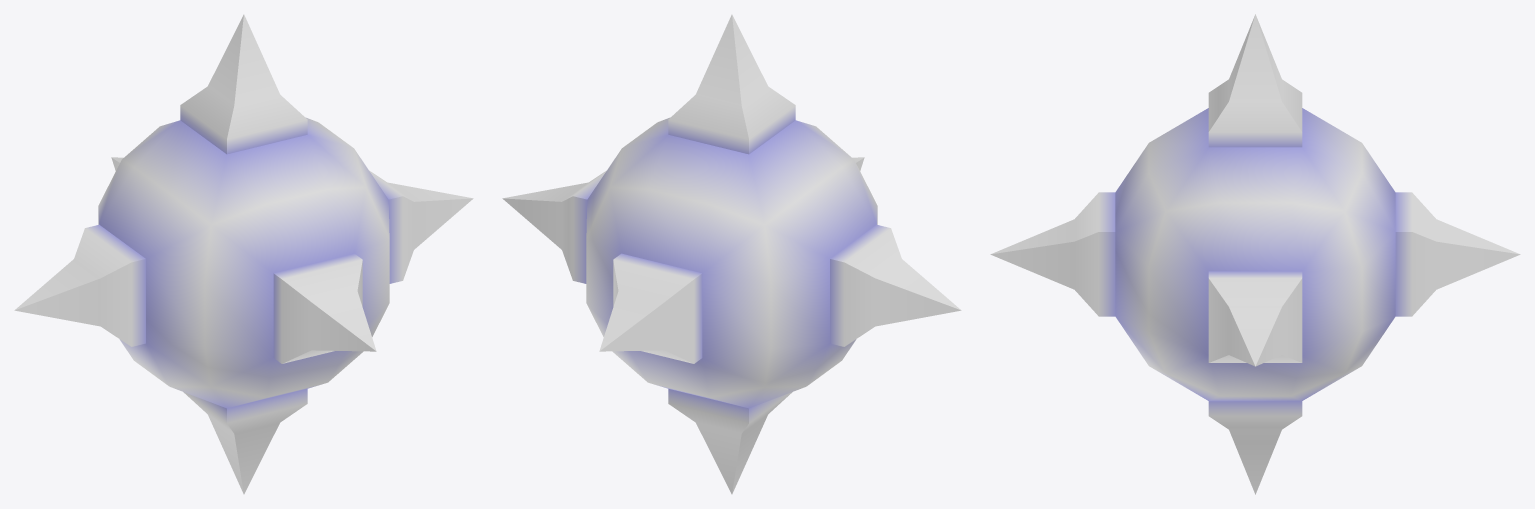
Rendered from spikeball.glb.
3 views of the same model, side by side, from view 1: azimuth 30°, elevation 25°; view 2: azimuth 150°, elevation 25°; view 3: azimuth 270°, elevation 25° (orthographic).
Parts seen in each view (by area): view 1: Spike Ball; view 2: Spike Ball; view 3: Spike Ball.
Boxes of the visible parts, <box> form: Spike Ball: <box>14,14,473,494</box>; Spike Ball: <box>502,14,961,494</box>; Spike Ball: <box>990,14,1520,494</box>.
Bounding box in the file's own units: 2.3 × 2.3 × 2.3.
